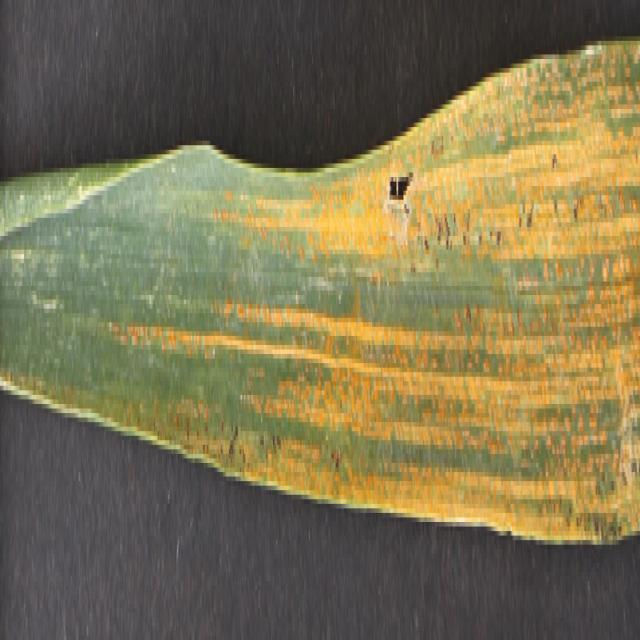leaf rust: (127, 9, 640, 527)
